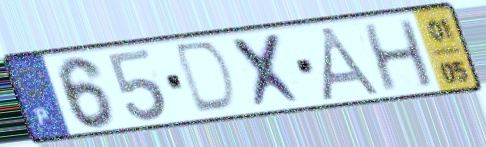5: (107, 46, 171, 123)
6: (55, 53, 119, 130)
A: (318, 23, 387, 103)
D: (173, 38, 240, 117)
H: (359, 16, 439, 95)
X: (227, 30, 309, 111)
